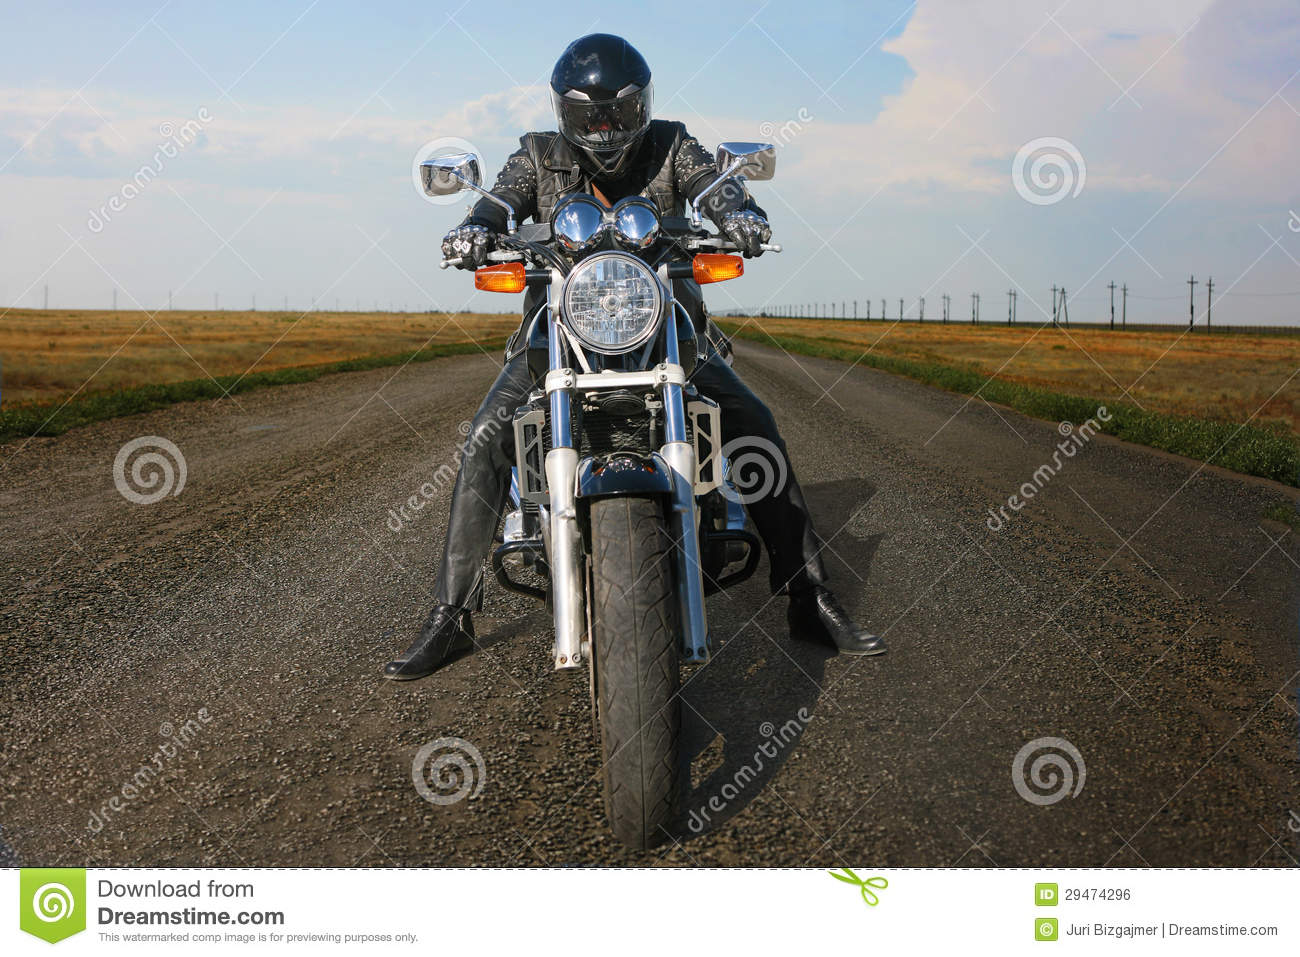helmet: (542, 30, 680, 149)
